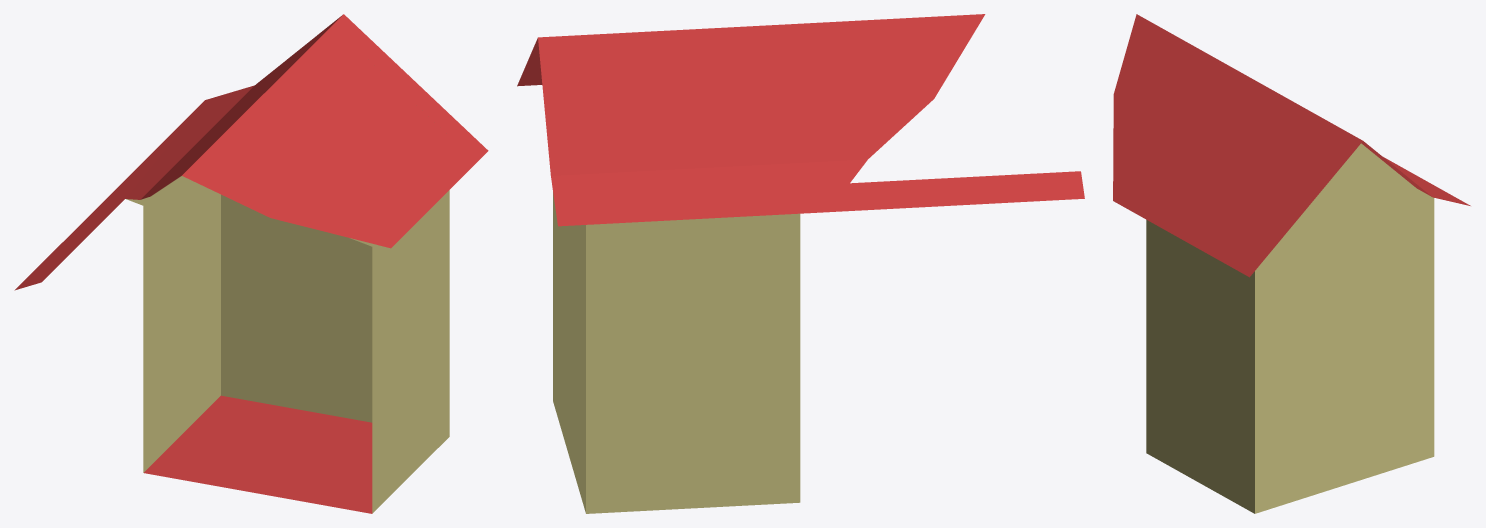
3 renders of one model, left to right at view 1: azimuth 30°, elevation 25°; view 2: azimuth 150°, elevation 25°; view 3: azimuth 270°, elevation 25°, orthographic. The views are drawn at different scales.
Size of the model in its own units: 14.57 by 10.03 by 10.88.
